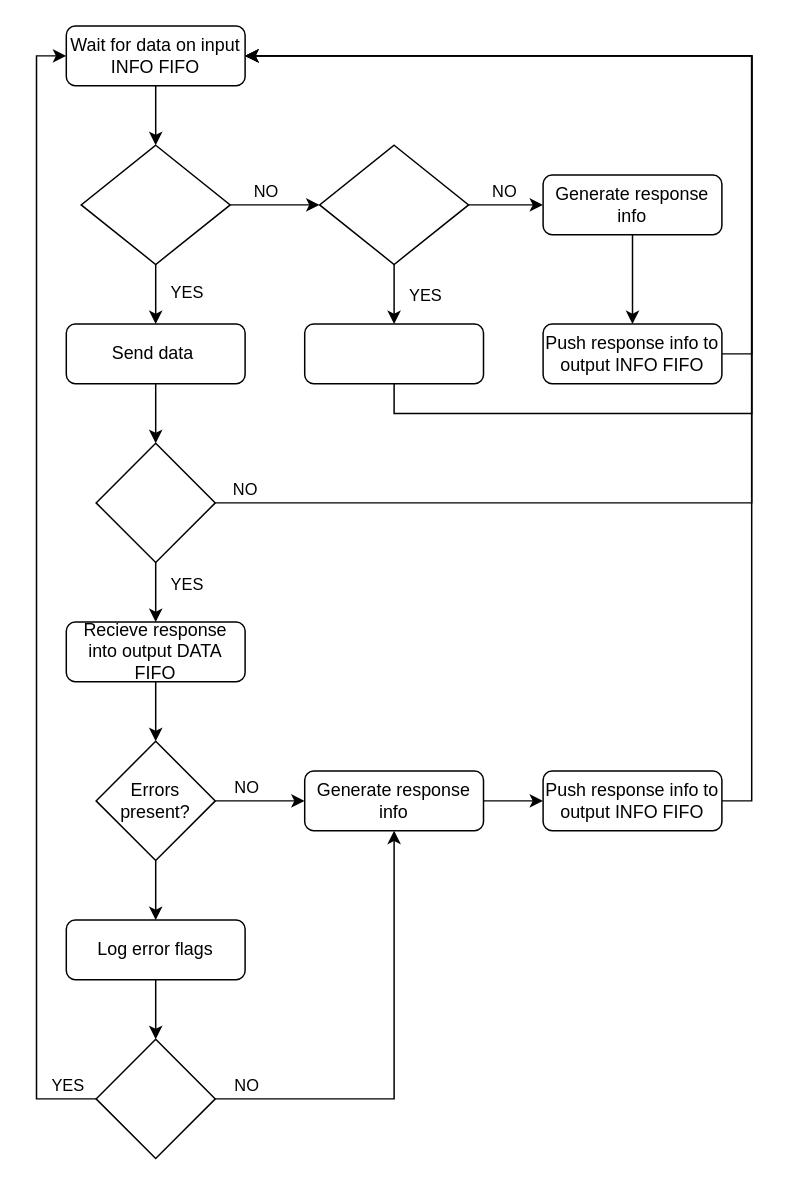
This 790x1185 diagram has some shape labels left out. Each missing label, with the centre of its shape:
Destructive errors?: [155,1098]
Expecting response?: [155,502]
Transmit request?: [155,204]
Write operation?: [393,204]
Write register: [393,353]
